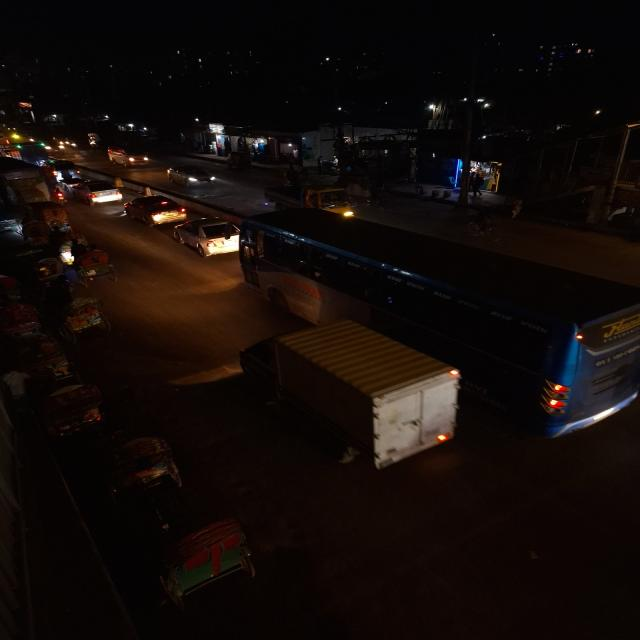bus: (234, 201, 640, 446), (0, 166, 48, 204)
car: (168, 212, 241, 258), (120, 193, 186, 224), (101, 140, 156, 171), (163, 162, 221, 191), (75, 180, 125, 204), (39, 157, 83, 180), (34, 139, 71, 157)
motorcycle: (51, 181, 71, 206)
rickshaw: (113, 508, 268, 602), (91, 426, 195, 498), (44, 283, 114, 346), (69, 239, 121, 289), (32, 199, 76, 233)
truck: (238, 317, 466, 480), (265, 172, 361, 218)
